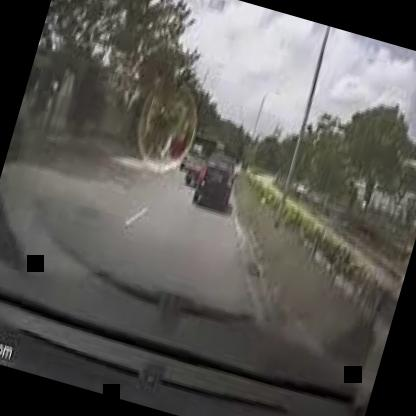car: (178, 131, 258, 237)
